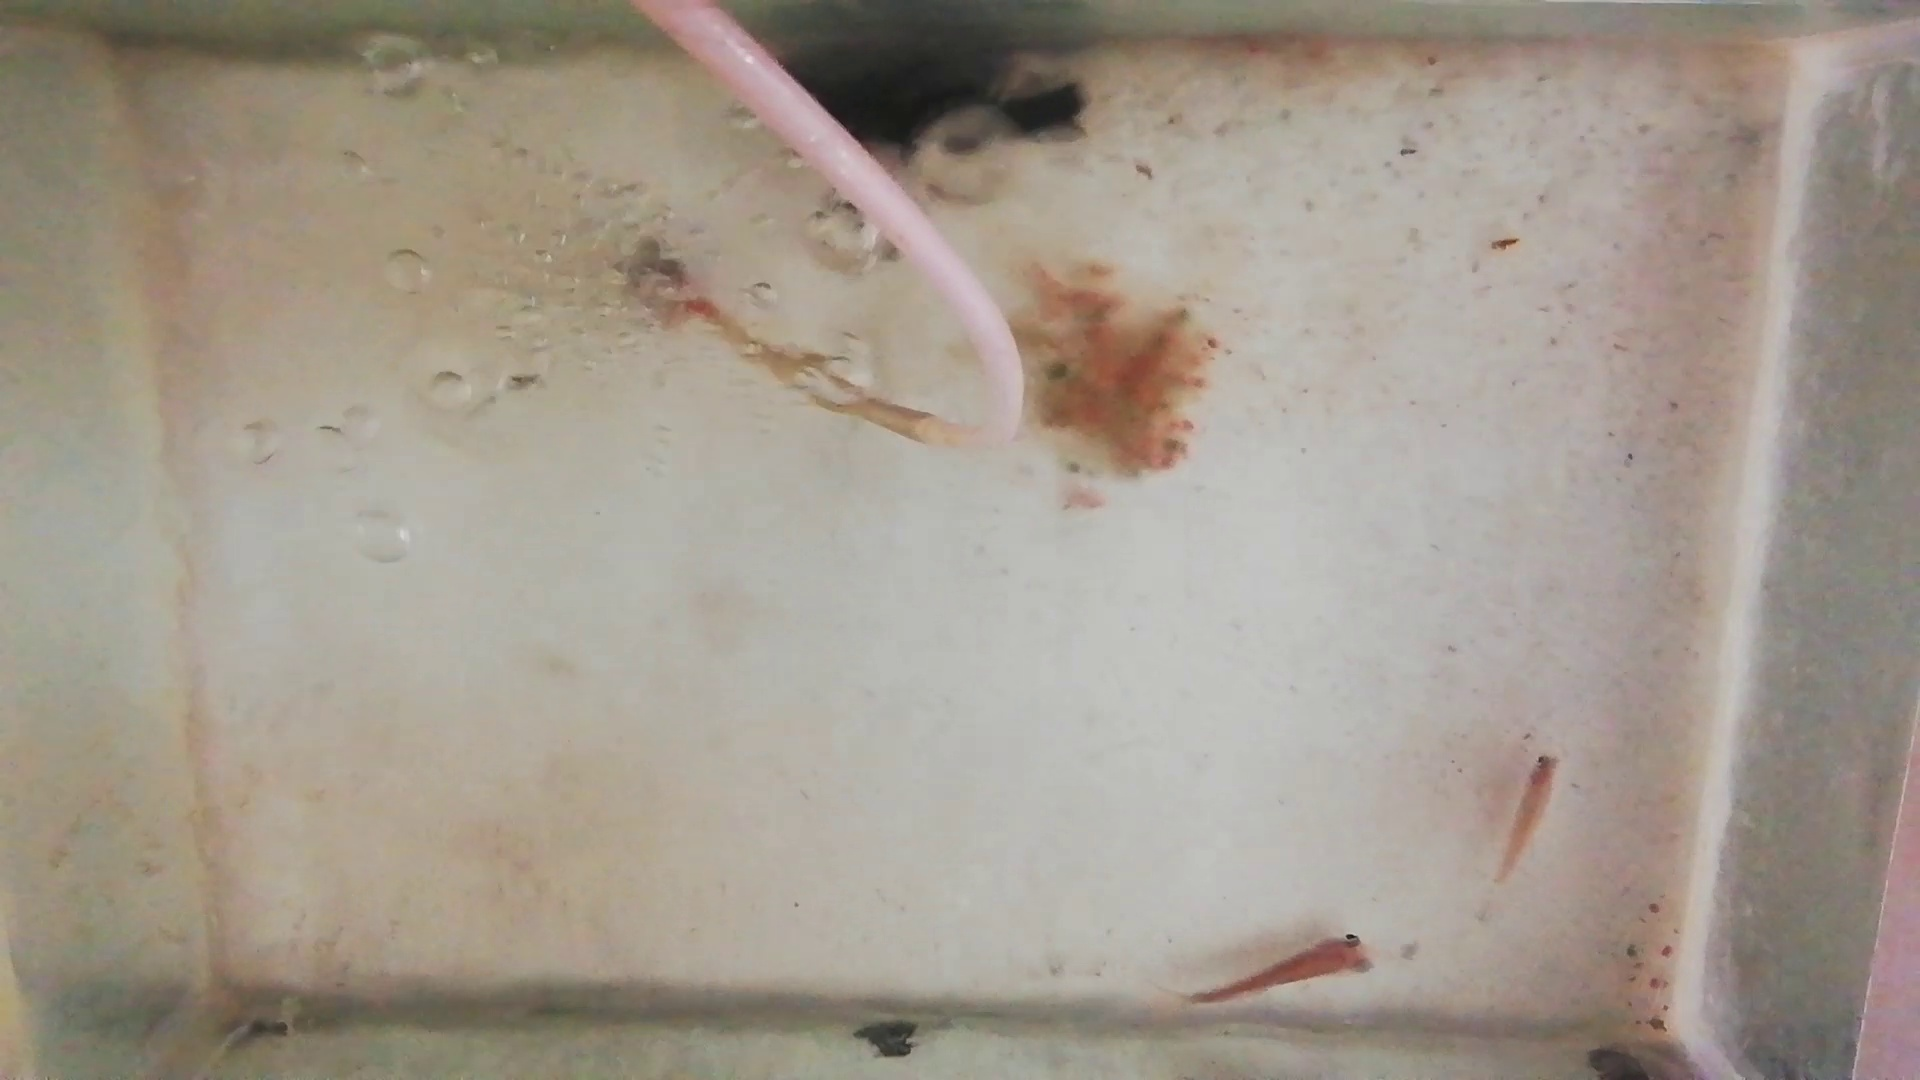fish: (1189, 934, 1371, 1006), (1491, 752, 1563, 882)
